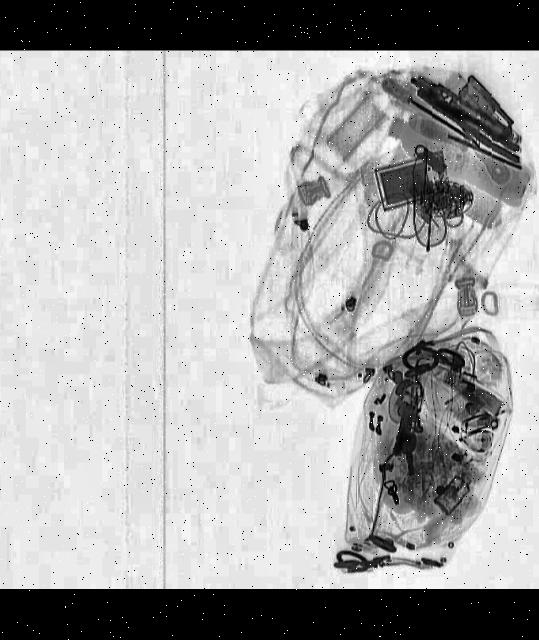Pliers: (410, 86, 527, 167)
